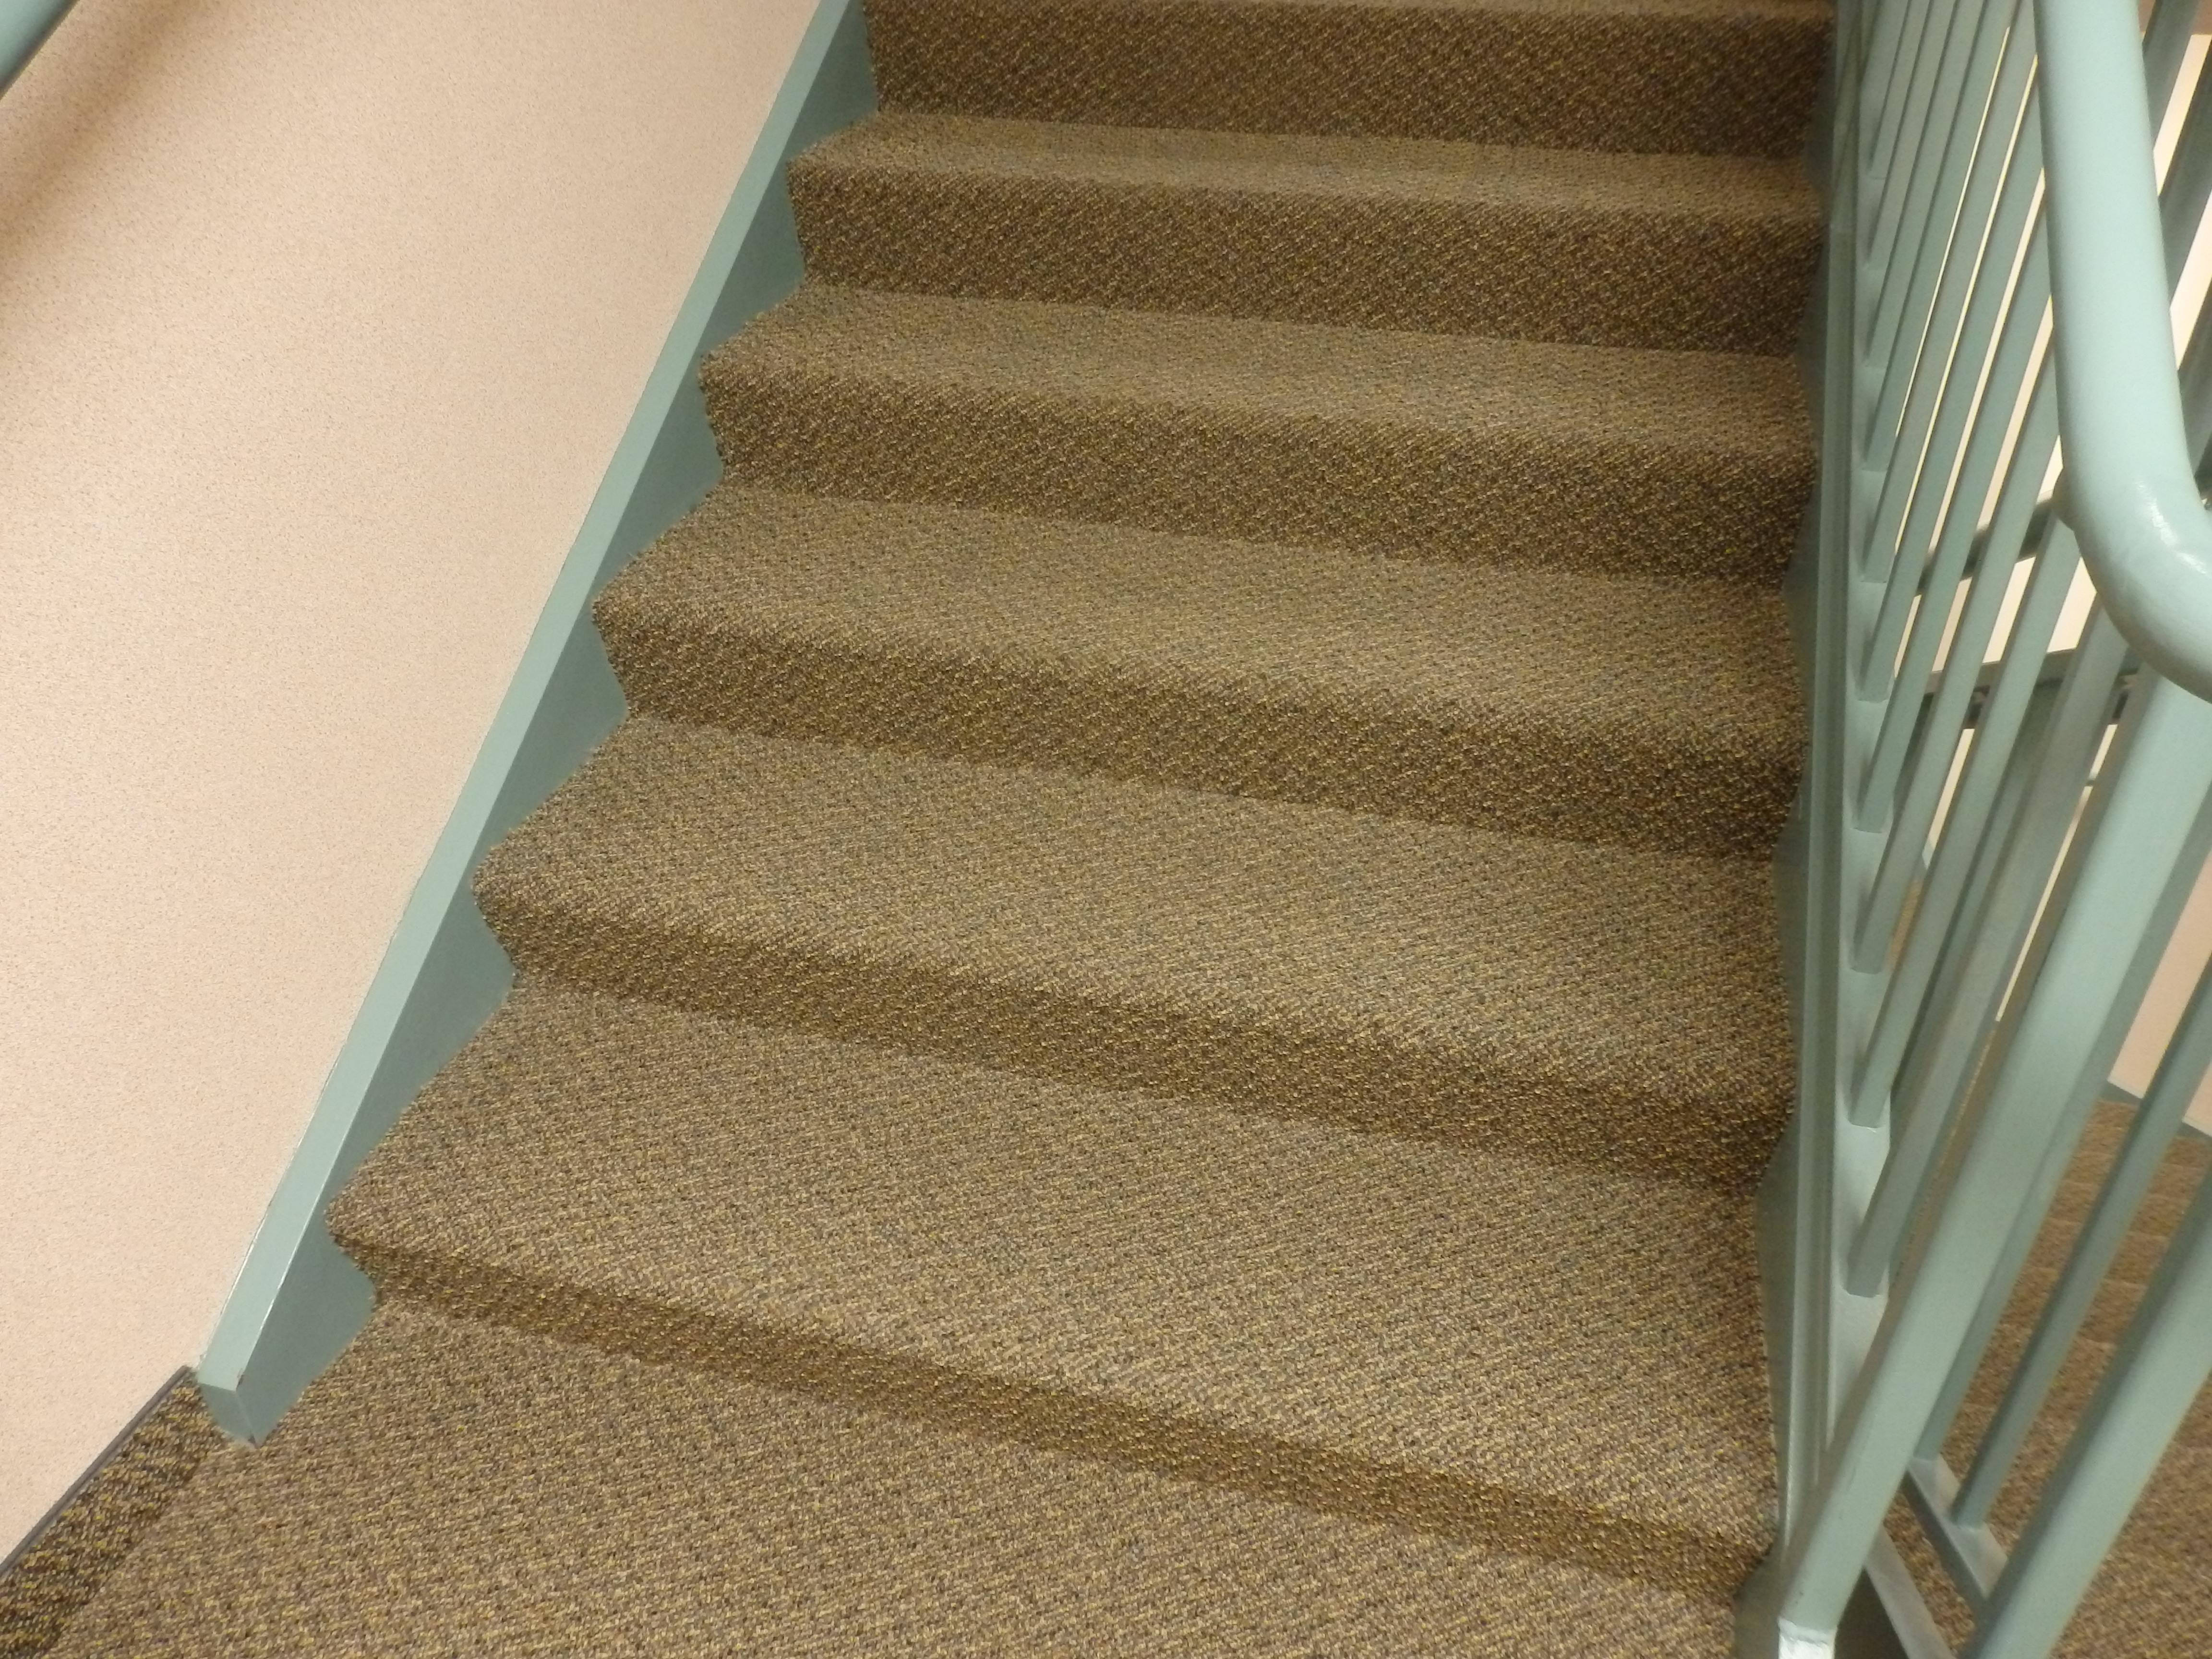stairs_up: (361, 31, 1815, 1591)
